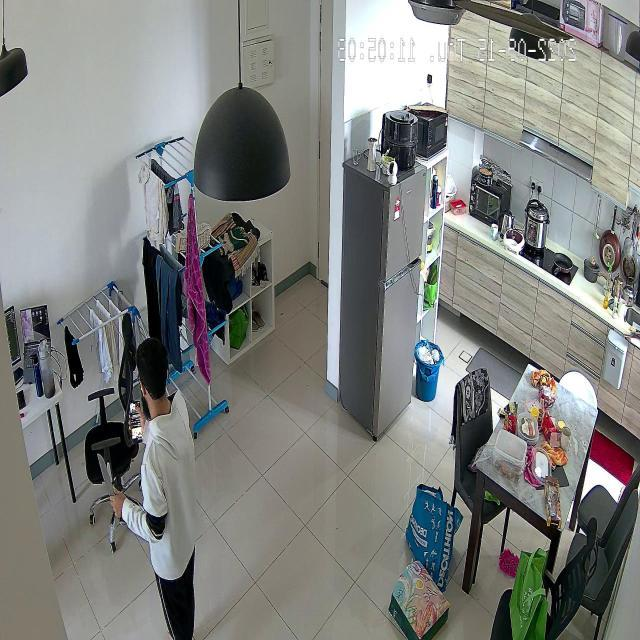Knife: (94, 448, 122, 508)
